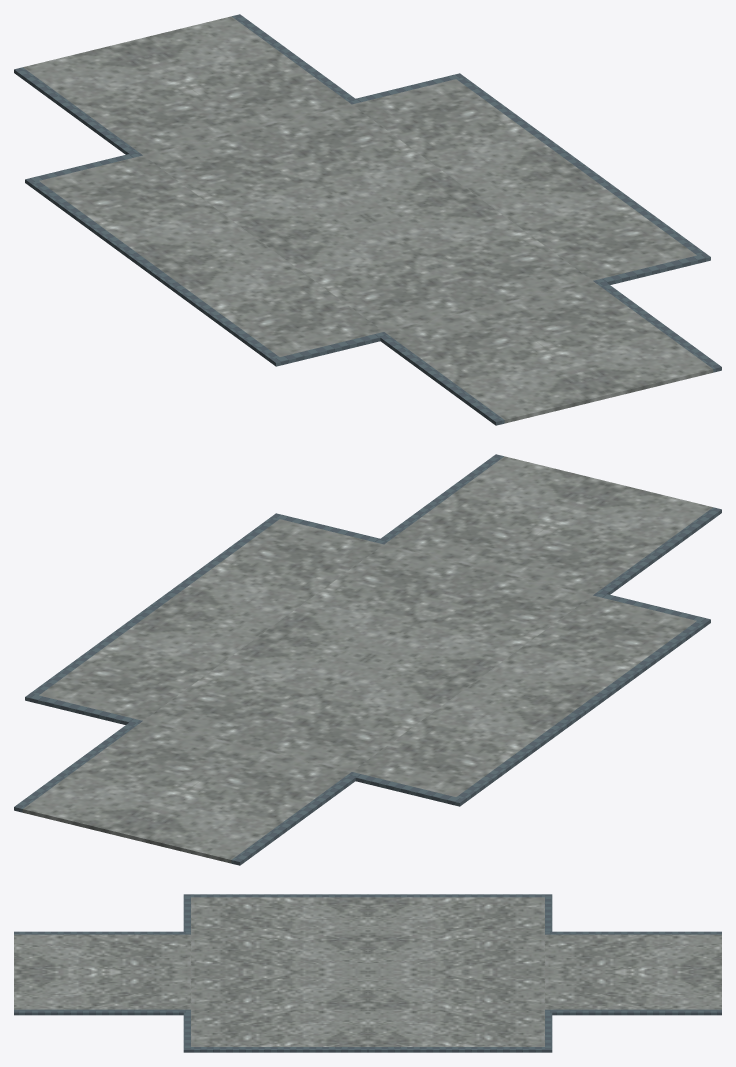
Rendered from Road Bigger.fbx.
3 renders of one model, top to bottom at view 1: azimuth 30°, elevation 25°; view 2: azimuth 150°, elevation 25°; view 3: azimuth 270°, elevation 25°, orthographic. The views are drawn at different scales.
Visible parts, largest first — view 1: Road Bigger; view 2: Road Bigger; view 3: Road Bigger.
Part boxes in pixels (x1,y1,x2,y2): Road Bigger: (14, 14, 721, 425); Road Bigger: (14, 454, 721, 865); Road Bigger: (14, 894, 721, 1052).
Bounding box in the file's own units: 1250 × 10 × 2400.
